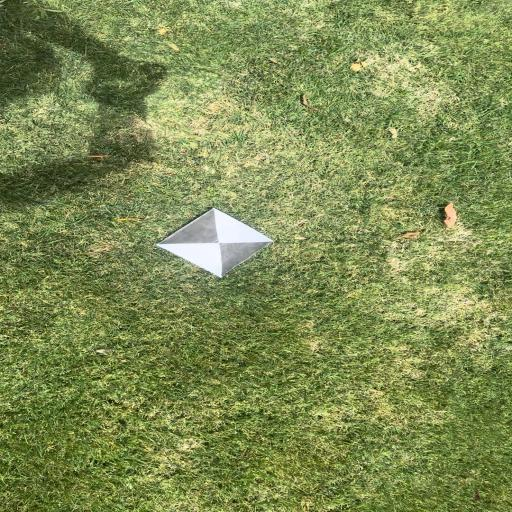target: (154, 208, 273, 278)
